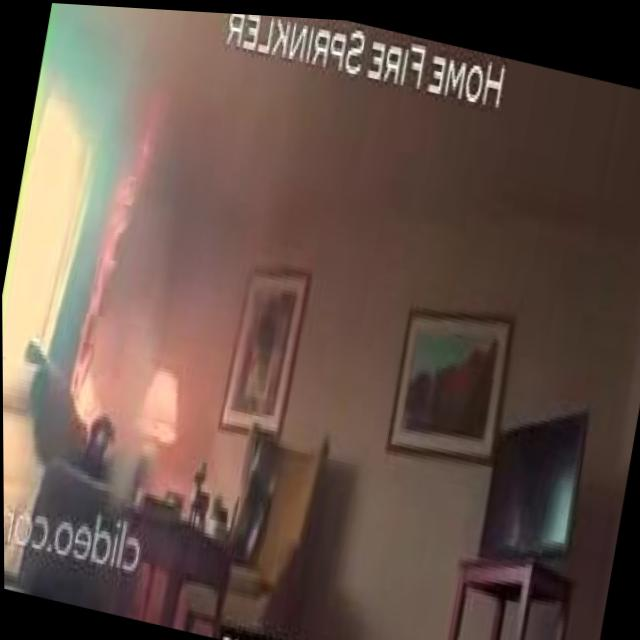fire: (83, 79, 170, 331), (59, 316, 118, 430)
